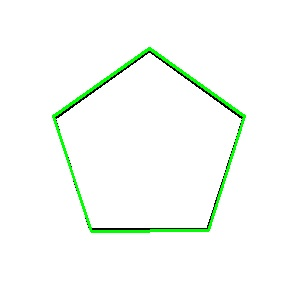line_segment: (53, 48, 245, 232)
